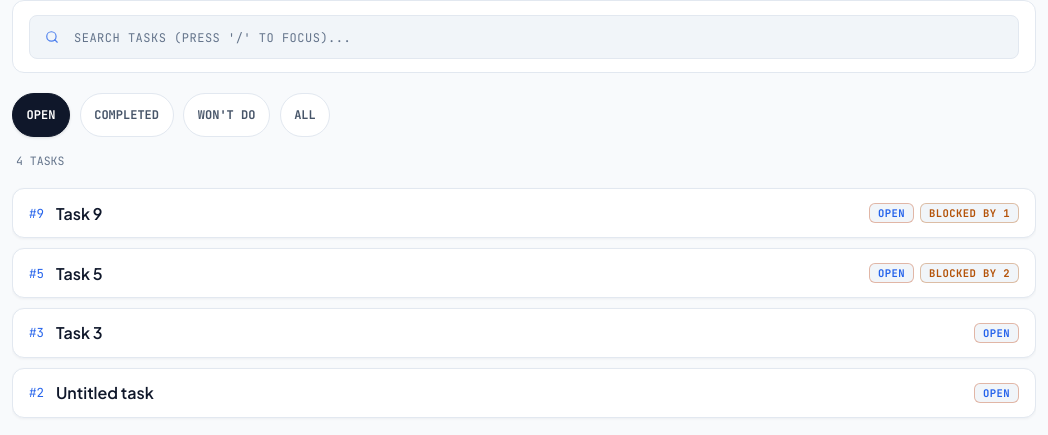
DocketView interactions › the clear button returns to the list at once
Step 1. Type "task 9" into the search field labelled "SEARCH TASKS" → point(524, 37), box top-left (29, 15), bottom-right (1019, 59)
Wait 300 ms
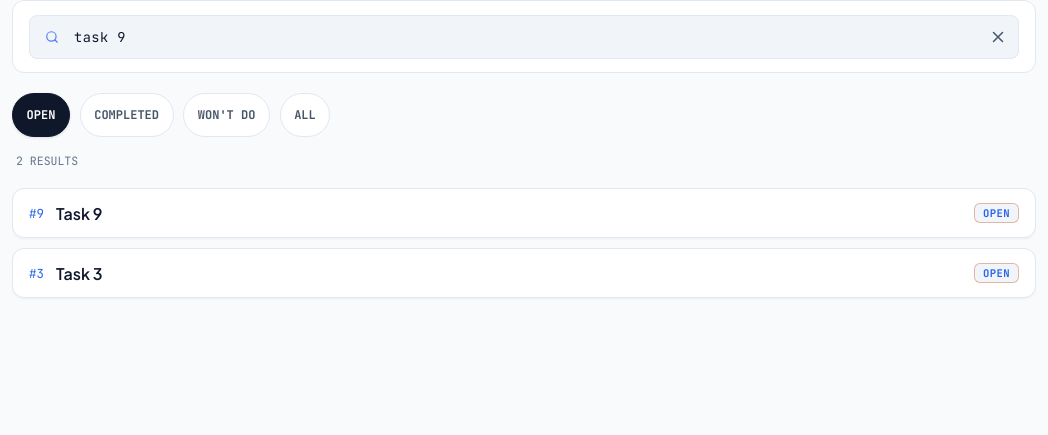
Step 2. Click the button named "Clear search" → point(998, 37), box top-left (989, 28), bottom-right (1007, 46)
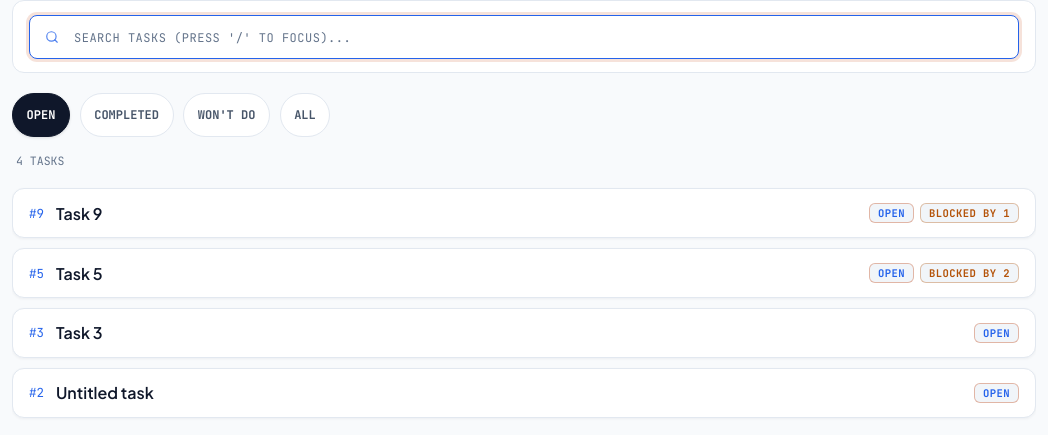
Expected: the button with class "cat-pill" reads "OPEN", top-left (12, 93), bottom-right (70, 137)
Expected: the text "4 TASKS" is shown, top-left (16, 153), bottom-right (64, 168)
